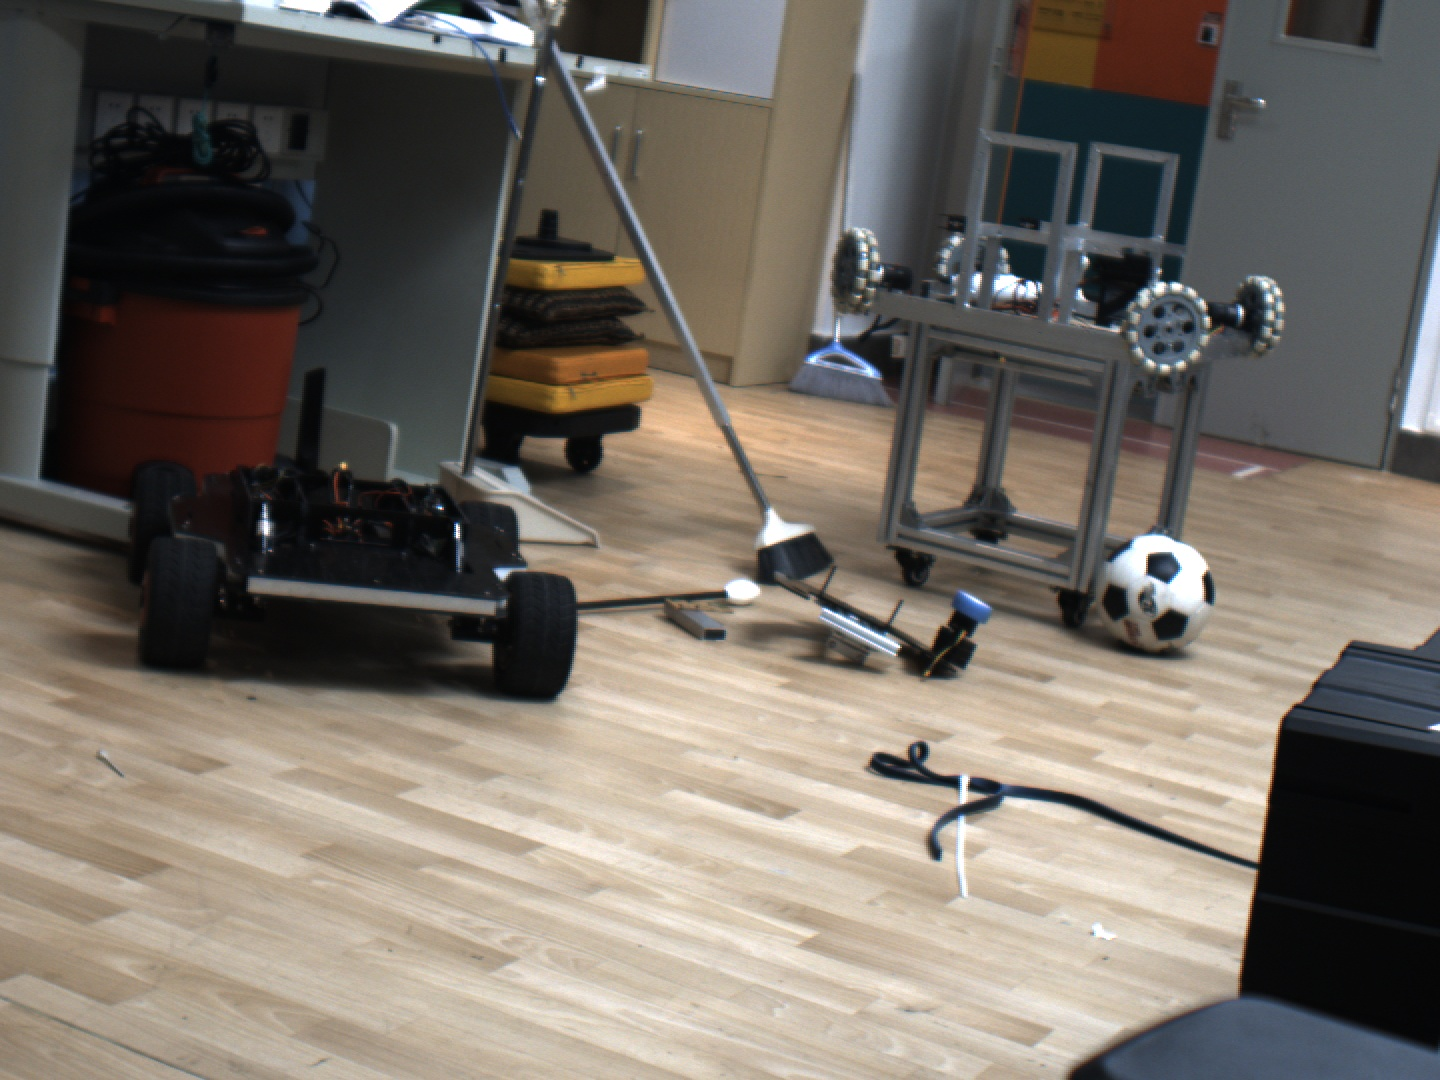ball: (1086, 523, 1233, 663)
